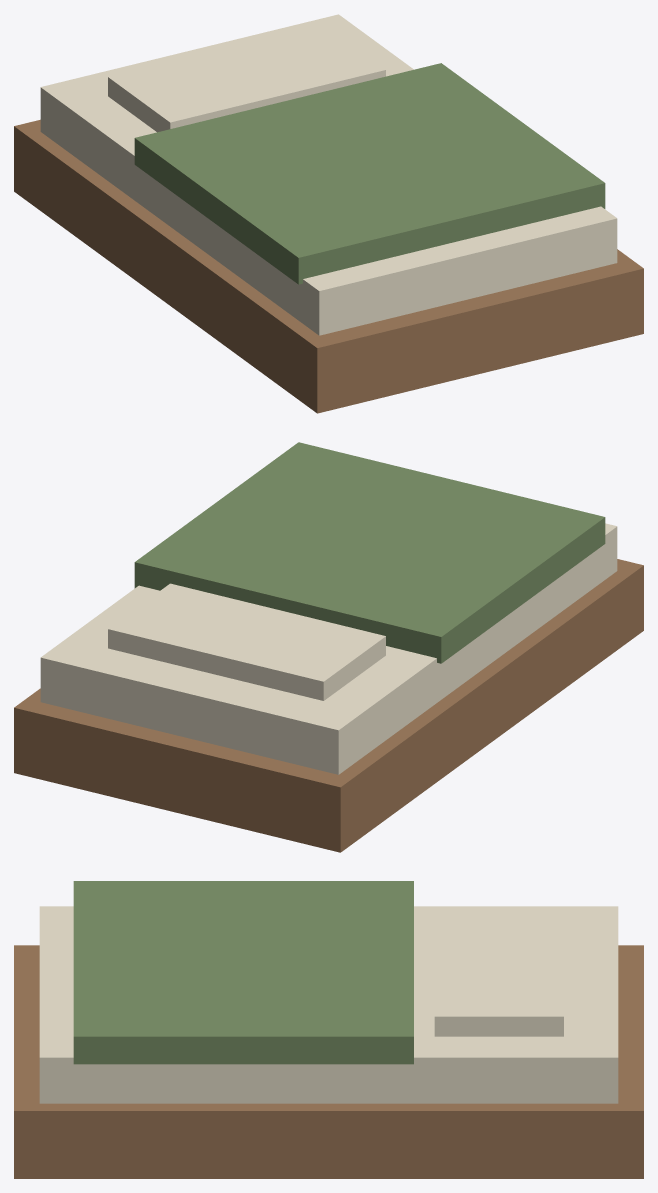
Rendered from bedroll_rescue.glb.
3 views of the same model, one above another, from view 1: azimuth 30°, elevation 25°; view 2: azimuth 150°, elevation 25°; view 3: azimuth 270°, elevation 25° (orthographic). The views are drawn at different scales.
Visible parts, largest first — view 1: bedroll_rescue; view 2: bedroll_rescue; view 3: bedroll_rescue.
Boxes of the visible parts, bbox=[...] form: bedroll_rescue: bbox=[14, 14, 643, 413]; bedroll_rescue: bbox=[14, 442, 643, 852]; bedroll_rescue: bbox=[14, 881, 643, 1178].
Bounding box in the file's own units: 1.15 × 0.445 × 1.85.
